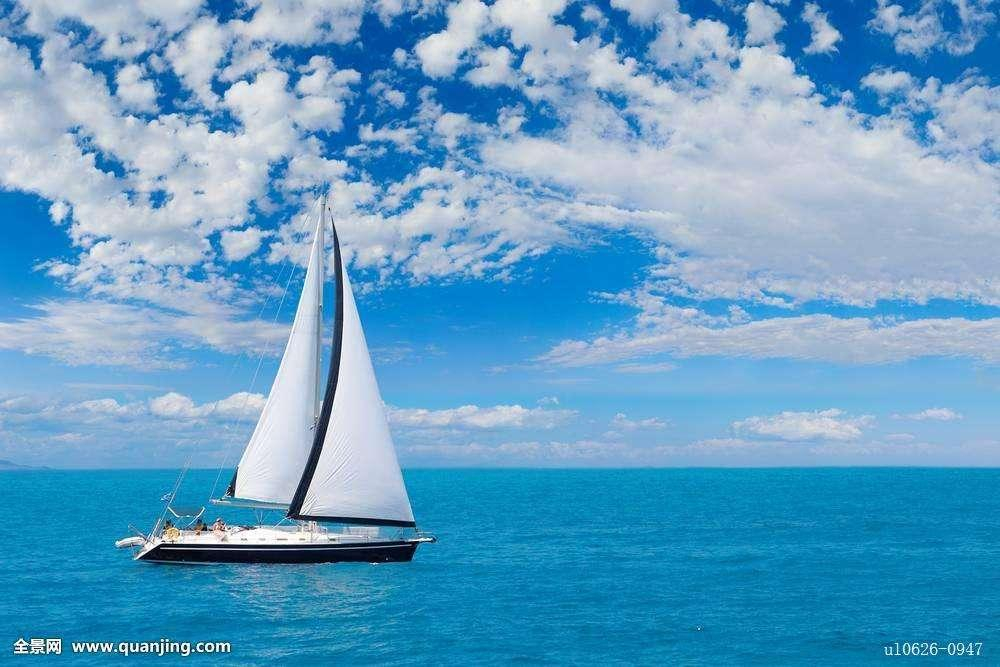fanchuan: (106, 178, 432, 572)
